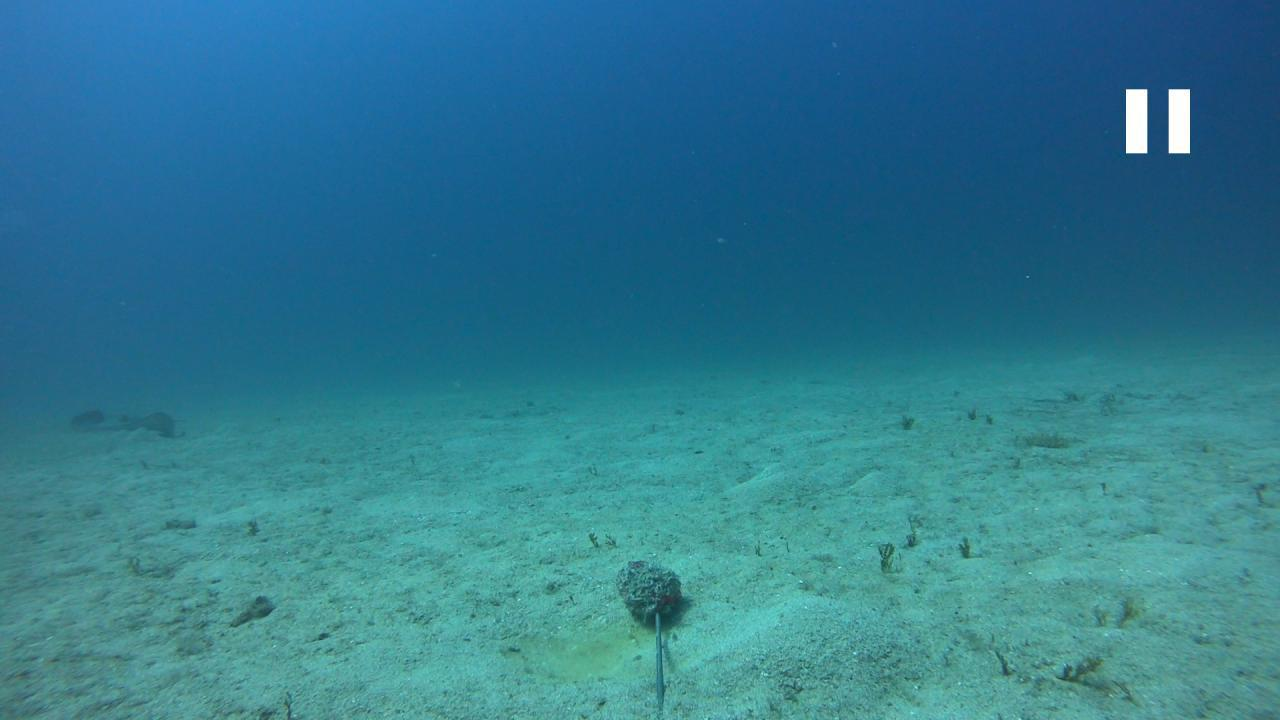dasyatis: (68, 406, 181, 437)
